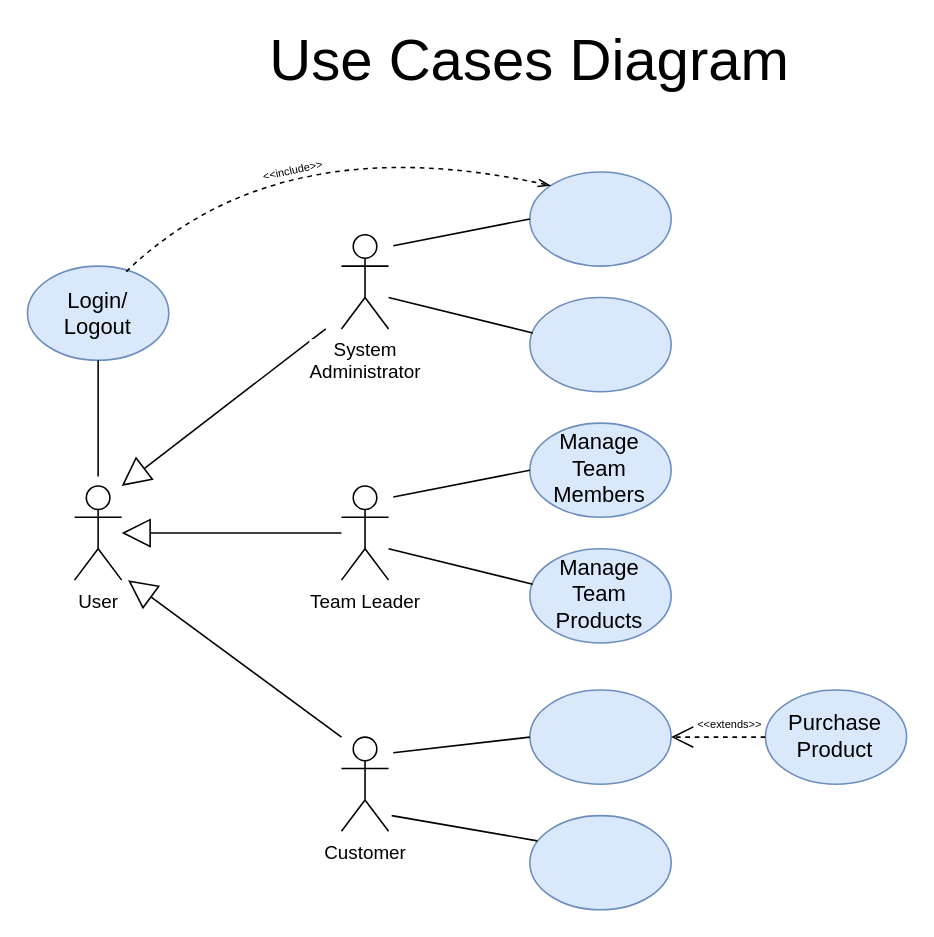
This 934x937 diagram has some shape labels left out. The shapes that lost their labels are listed below. From the top down, each one's centre as x and y in pixels, then its label:
point 599,218: Add/Remove Users
point 599,344: Manage Employees
point 599,736: View Product
point 599,862: Review Orders
